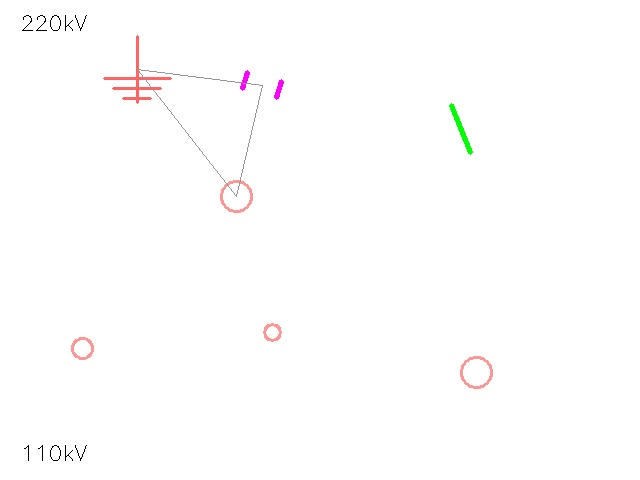busbar: (429, 97, 493, 161)
capacitor: (233, 56, 291, 114)
current_transformer: (255, 315, 289, 349)
disconnect_switch: (61, 327, 103, 369)
fuse: (205, 165, 267, 227)
ground: (104, 36, 170, 102)
reactor: (446, 342, 506, 402)
